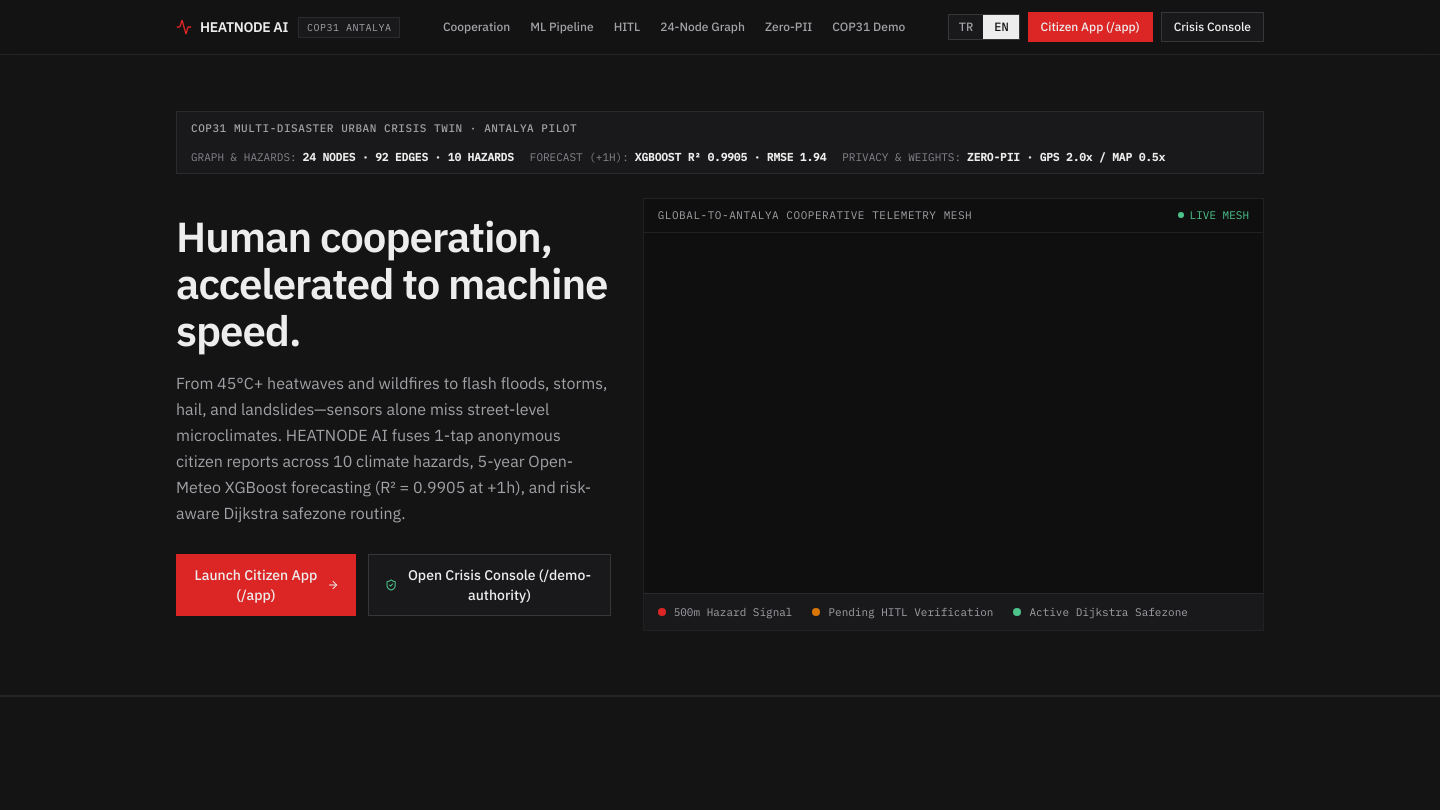
Test: Heatnode PWA Flow › supports TR/EN language toggle on LandingPage and persists heatnode_lang
Check: the heading "Human cooperation, accelerated to machine speed." is shown, box [176, 213, 611, 354]
Click the button "TR".
click(966, 27)  # box [949, 15, 983, 39]
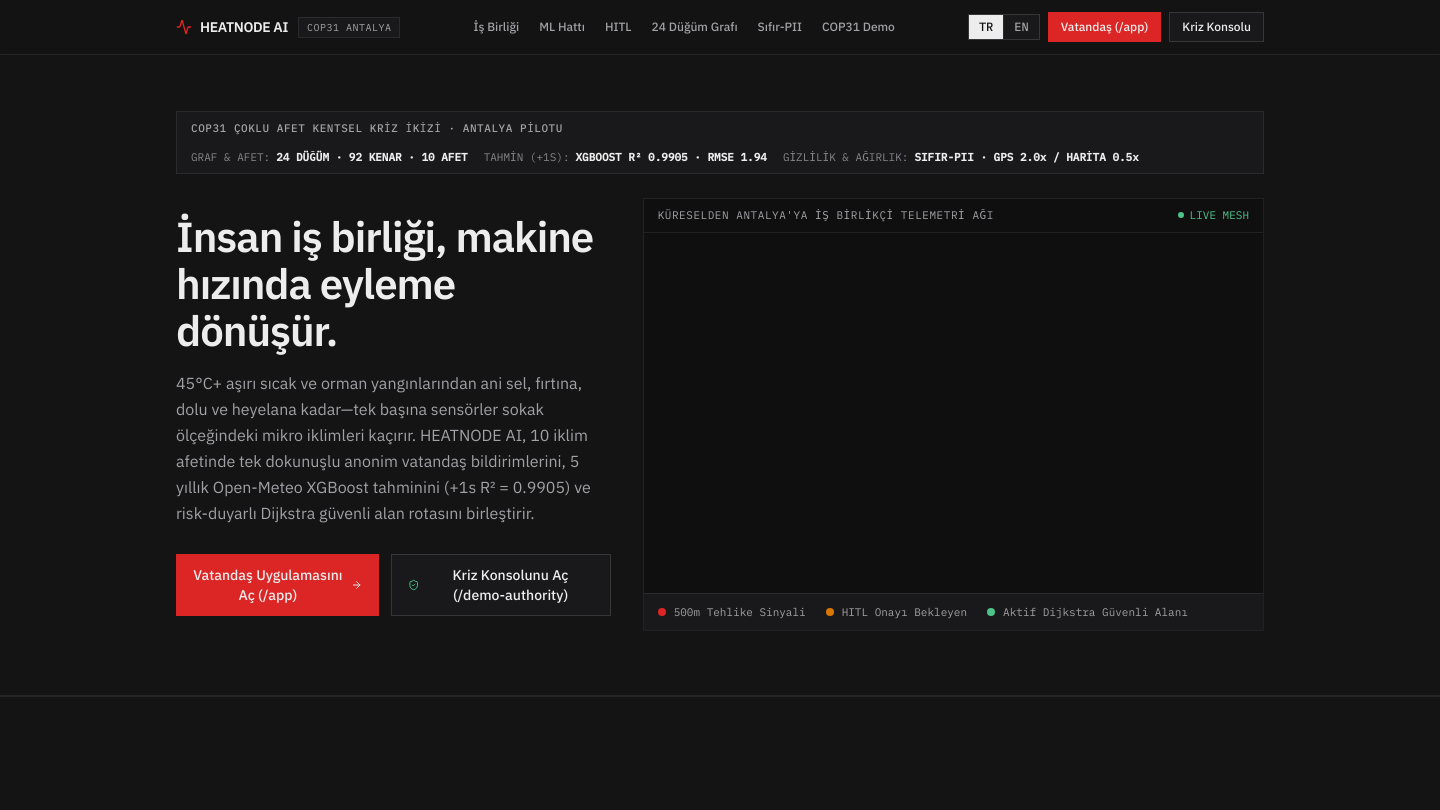
Check: the heading "İnsan iş birliği, makine hızında eyleme dönüşür." is shown, box [176, 213, 611, 354]
Click the button "EN".
click(1021, 27)  # box [1003, 15, 1039, 39]
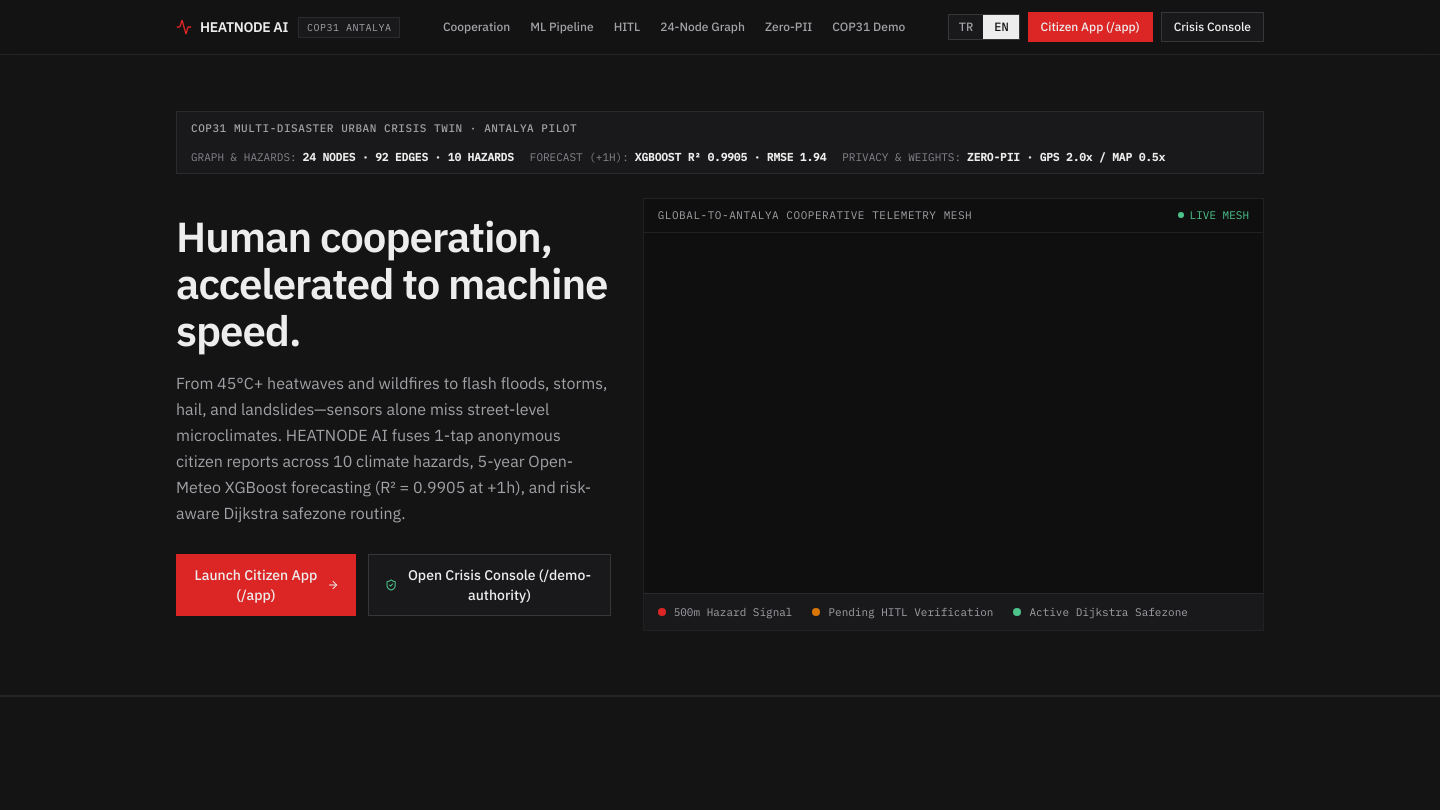
Check: the heading "Human cooperation, accelerated to machine speed." is shown, box [176, 213, 611, 354]
